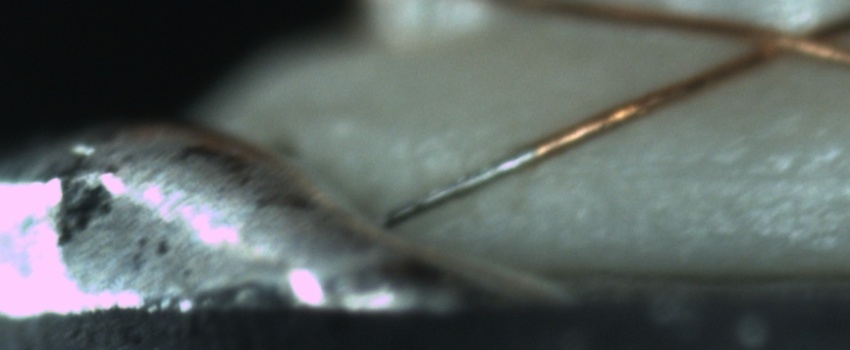CL: (731, 10, 850, 64)
DL: (556, 142, 850, 206)
TS: (382, 145, 536, 229)
